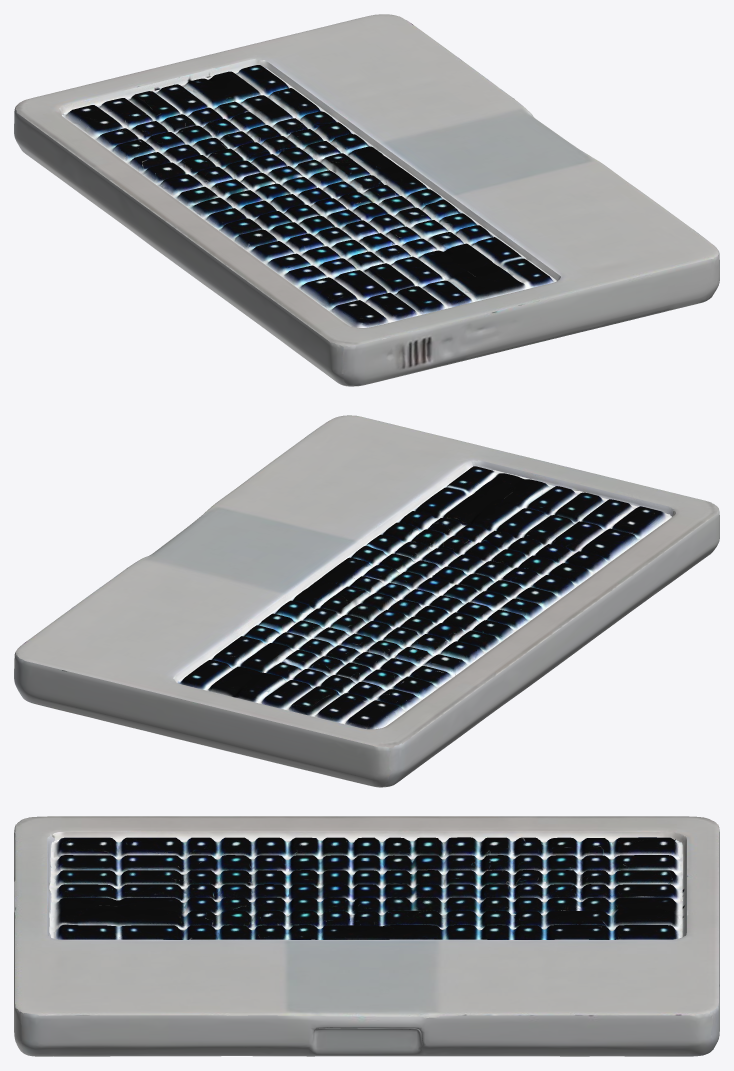
File: keyboard-top-case.glb
The picture shows the model from 3 angles, top to bottom: view 1: azimuth 30°, elevation 25°; view 2: azimuth 150°, elevation 25°; view 3: azimuth 270°, elevation 25°; orthographic projection. The views are drawn at different scales.
Visible parts, largest first — view 1: tmps8xgk5dd.ply; view 2: tmps8xgk5dd.ply; view 3: tmps8xgk5dd.ply.
Part boxes in pixels (x1=…): tmps8xgk5dd.ply: x1=14, y1=14, x2=719, y2=386; tmps8xgk5dd.ply: x1=14, y1=415, x2=719, y2=787; tmps8xgk5dd.ply: x1=14, y1=816, x2=719, y2=1056.
Bounding box in the file's own units: 0.6619 × 0.0743 × 0.9881.
Materials: 1 (1 with a texture image).
